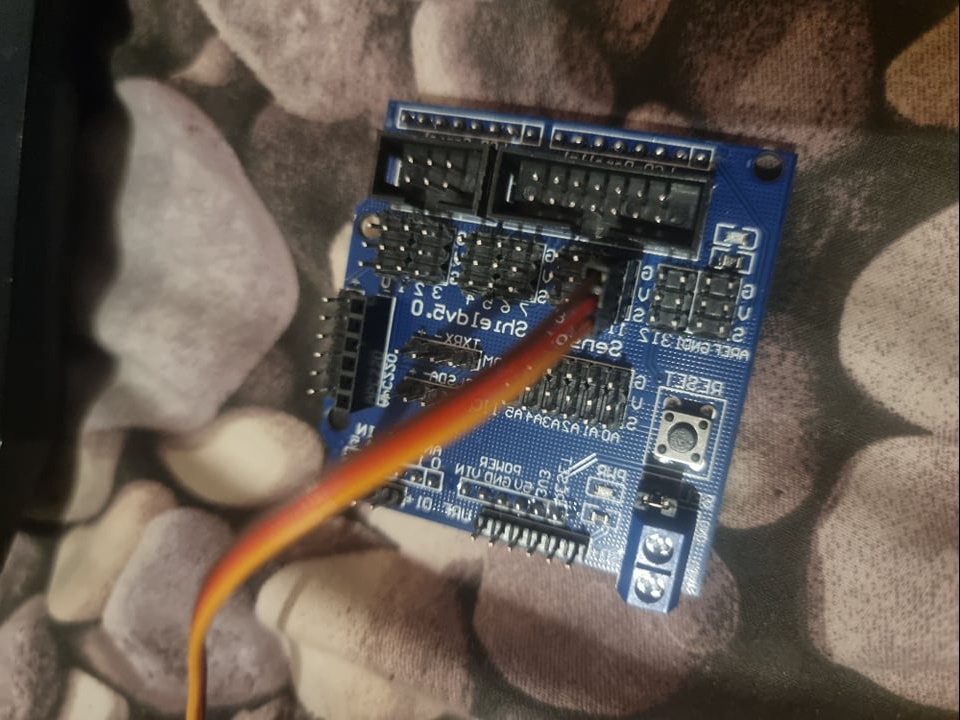5V EXPANSION: (304, 96, 793, 617)
